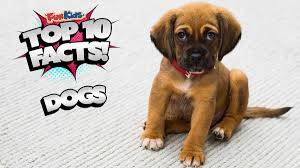dog: (142, 1, 259, 75)
